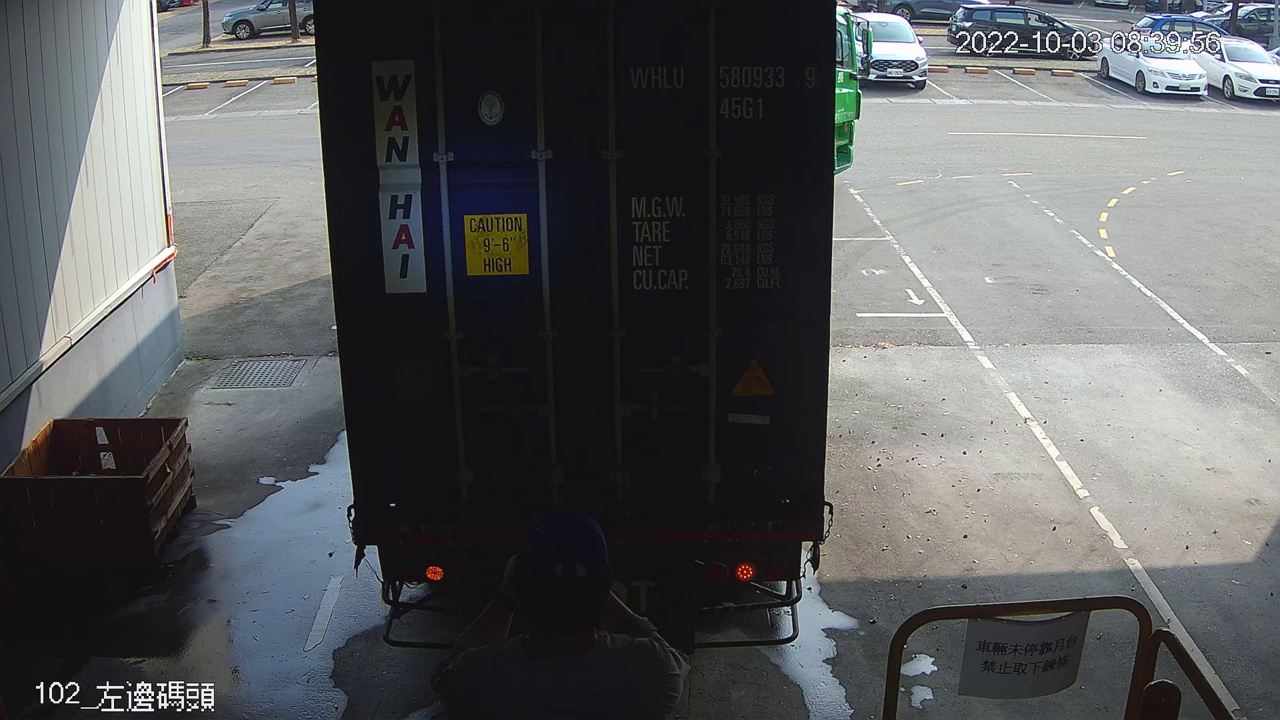container: (626, 57, 822, 128)
